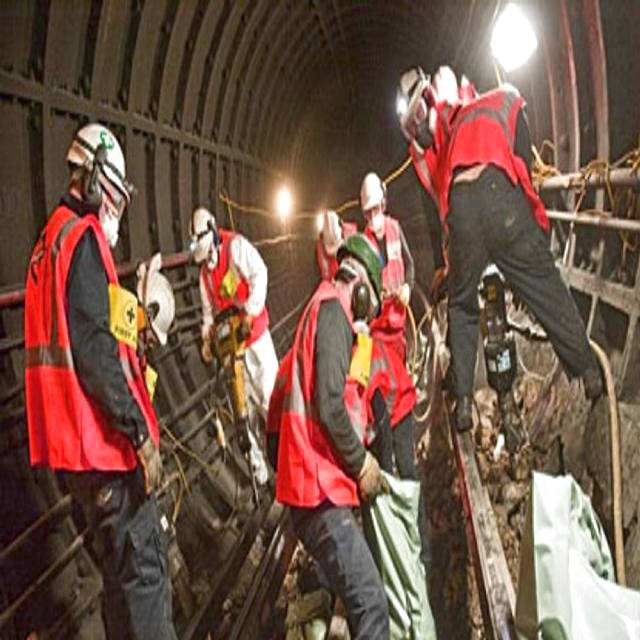Con_Chaleco: (29, 219, 150, 459), (281, 290, 368, 500)
